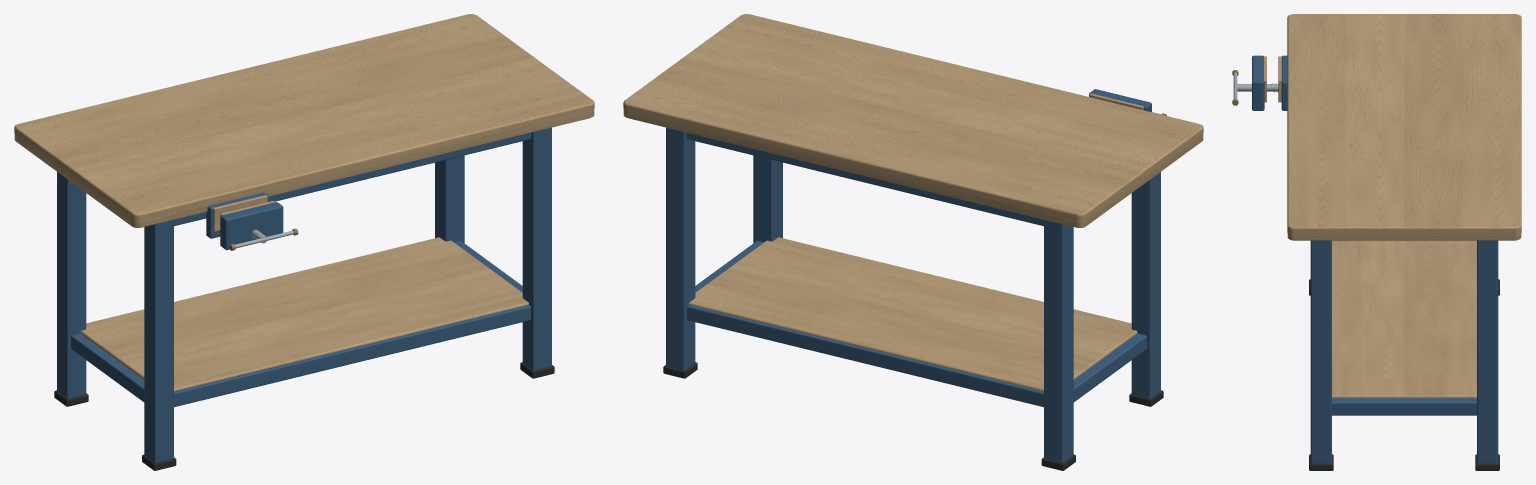
Rendered from commercial-workbench.glb.
3 views of the same model, side by side, from view 1: azimuth 30°, elevation 25°; view 2: azimuth 150°, elevation 25°; view 3: azimuth 270°, elevation 25° (orthographic). The views are drawn at different scales.
Parts seen in each view (by area): view 1: Thick ash workbench top, Ash lower equipment shelf, Box-section workbench leg, Box-section workbench leg.002, Box-section workbench leg.001, Lower shelf rail, Box-section workbench leg.003, Upper welded frame rail, Vise moving jaw, Welded end frame rail; view 2: Thick ash workbench top, Ash lower equipment shelf, Box-section workbench leg.001, Box-section workbench leg.003, Box-section workbench leg, Lower shelf rail.001, Upper welded frame rail.001, Box-section workbench leg.002, Welded end frame rail; view 3: Thick ash workbench top, Ash lower equipment shelf, Box-section workbench leg.002, Box-section workbench leg.003, Welded end frame rail.001, Vise moving jaw, Vise fixed jaw.
Part boxes in pixels (x1,y1,x2,y2): Thick ash workbench top: (14,14,594,227); Ash lower equipment shelf: (80,237,528,391); Box-section workbench leg: (144,220,173,462); Box-section workbench leg.002: (522,127,551,370); Box-section workbench leg.001: (57,172,86,398); Lower shelf rail: (174,305,530,407); Box-section workbench leg.003: (435,155,464,243); Upper welded frame rail: (174,132,531,226); Vise moving jaw: (220,202,283,250); Welded end frame rail: (71,333,144,402); Thick ash workbench top: (623,14,1203,227); Ash lower equipment shelf: (689,237,1137,391); Box-section workbench leg.001: (1044,220,1073,462); Box-section workbench leg.003: (666,127,695,370); Box-section workbench leg: (1131,172,1160,398); Lower shelf rail.001: (687,305,1043,407); Upper welded frame rail.001: (686,132,1043,226); Box-section workbench leg.002: (753,155,782,243); Welded end frame rail: (1073,333,1146,402); Thick ash workbench top: (1287,14,1521,240); Ash lower equipment shelf: (1332,240,1476,398); Box-section workbench leg.002: (1310,240,1331,463); Box-section workbench leg.003: (1477,240,1498,463); Welded end frame rail.001: (1332,398,1476,415); Vise moving jaw: (1252,55,1264,110); Vise fixed jaw: (1281,55,1287,110).
Size of the model in its own units: 1.62 by 0.912 by 0.926.
Materials: 6 (2 with a texture image).
